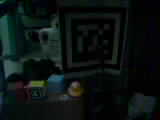duck: (59, 76, 94, 102)
